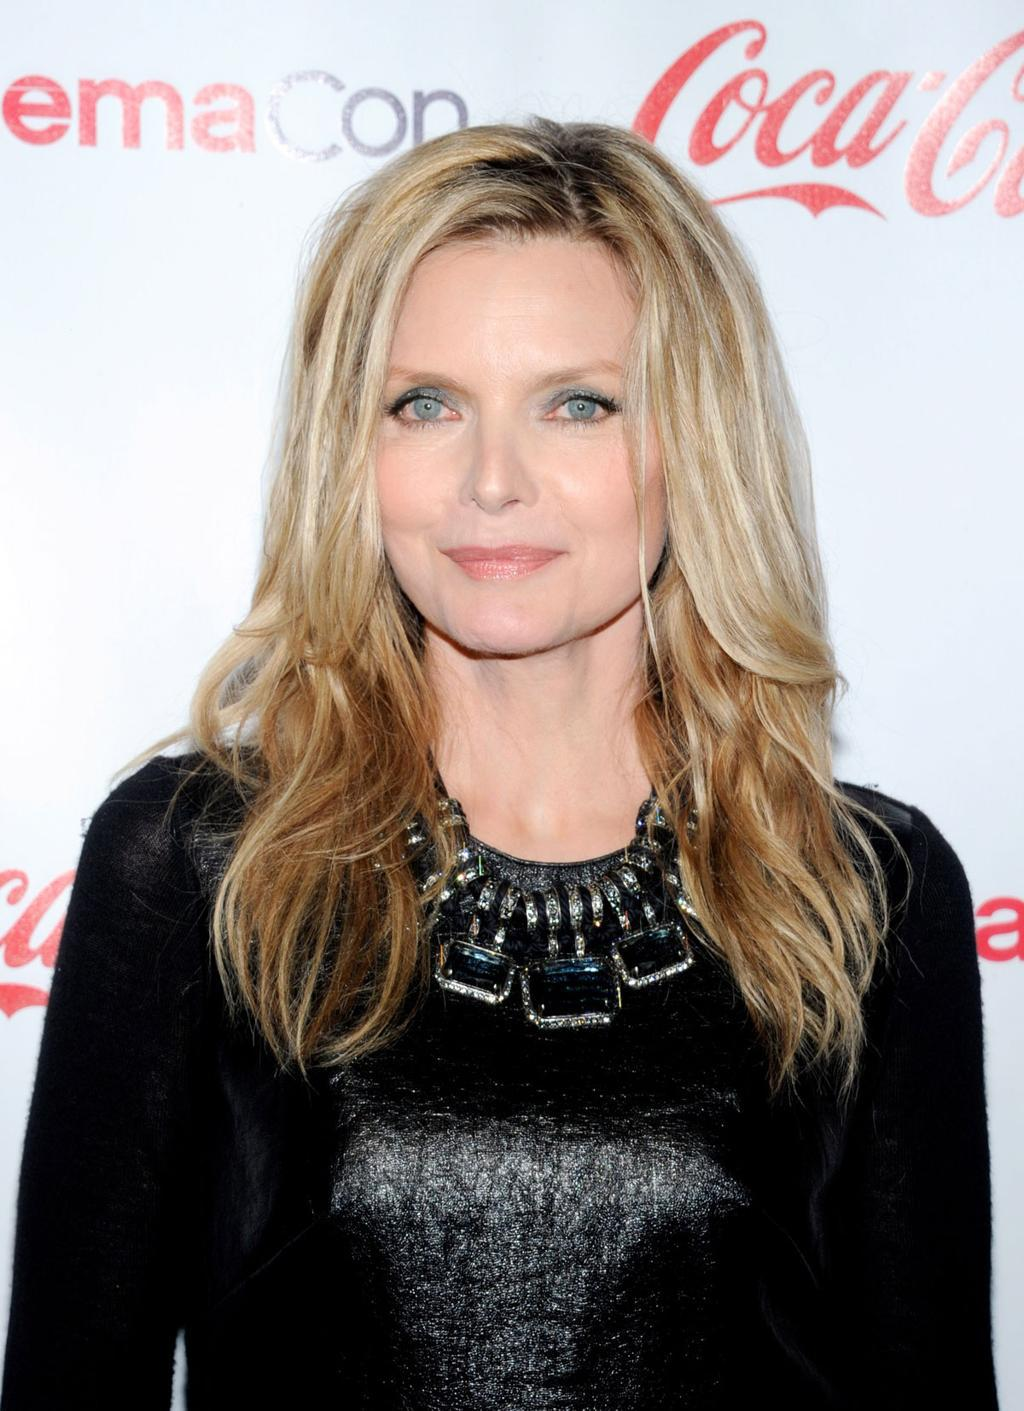face: (370, 221, 676, 659)
